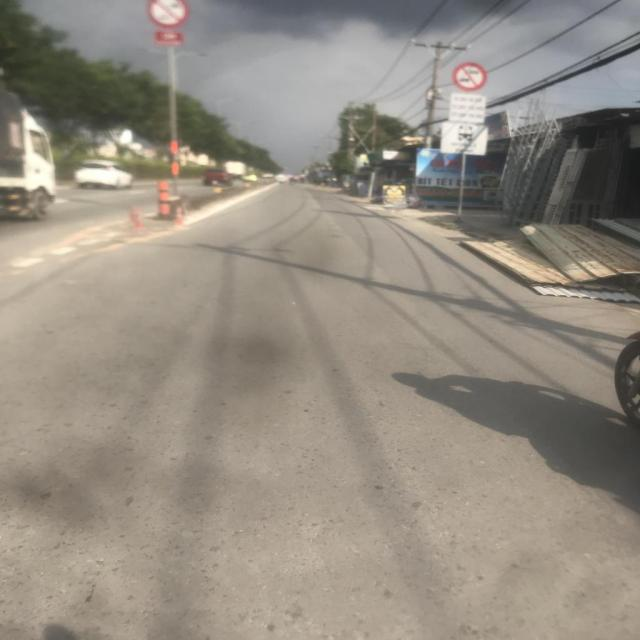cam_o_to_tai_va_xe_khach: (452, 62, 488, 91)
cam_xe_2_banh_va_xe_3_banh_co_dong_co: (146, 0, 189, 28)
khac: (438, 122, 488, 156), (448, 92, 486, 124)
